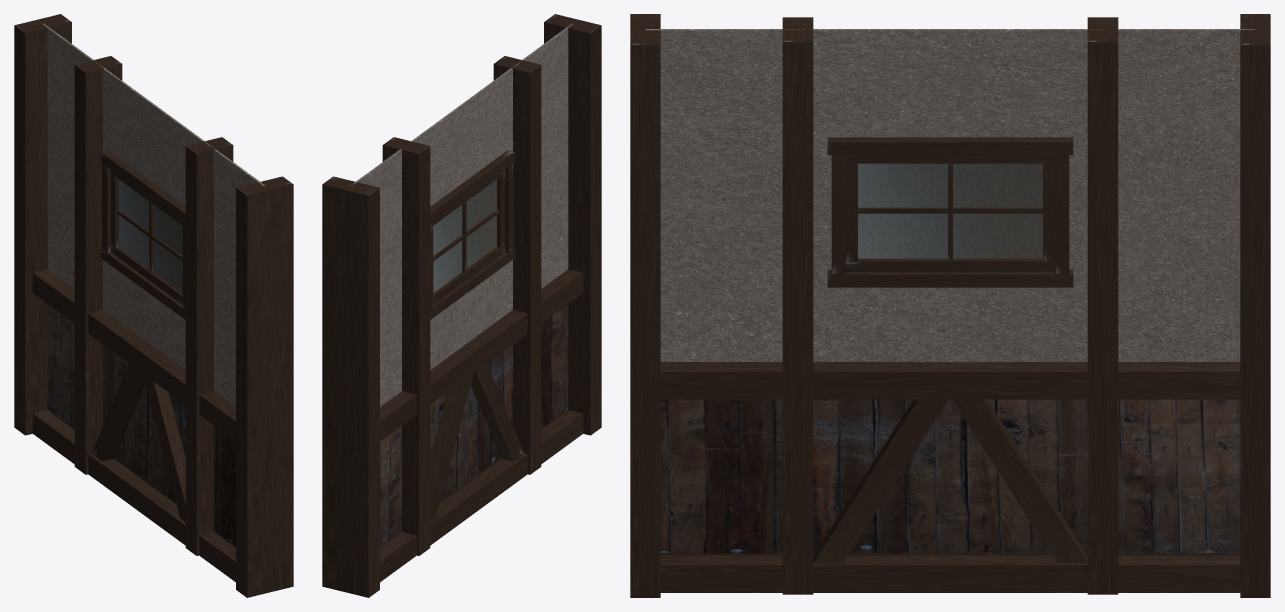
The model's file is OutdoorArchitecture_BasicWall02_Window03_BothEdges_BShortt.fbx.
3 renders of one model, left to right at view 1: azimuth 30°, elevation 25°; view 2: azimuth 150°, elevation 25°; view 3: azimuth 270°, elevation 25°, orthographic. The views are drawn at different scales.
Parts seen in each view (by area): view 1: OutdoorArchitecture_BasicWall02_Window03_BothEdges_BShortt; view 2: OutdoorArchitecture_BasicWall02_Window03_BothEdges_BShortt; view 3: OutdoorArchitecture_BasicWall02_Window03_BothEdges_BShortt.
Part boxes in pixels (box(x1,y1,x2,y2)): OutdoorArchitecture_BasicWall02_Window03_BothEdges_BShortt: box(14, 14, 293, 597); OutdoorArchitecture_BasicWall02_Window03_BothEdges_BShortt: box(322, 14, 601, 597); OutdoorArchitecture_BasicWall02_Window03_BothEdges_BShortt: box(630, 14, 1270, 597).
Size of the model in its own units: 36.37 by 300 by 315.
